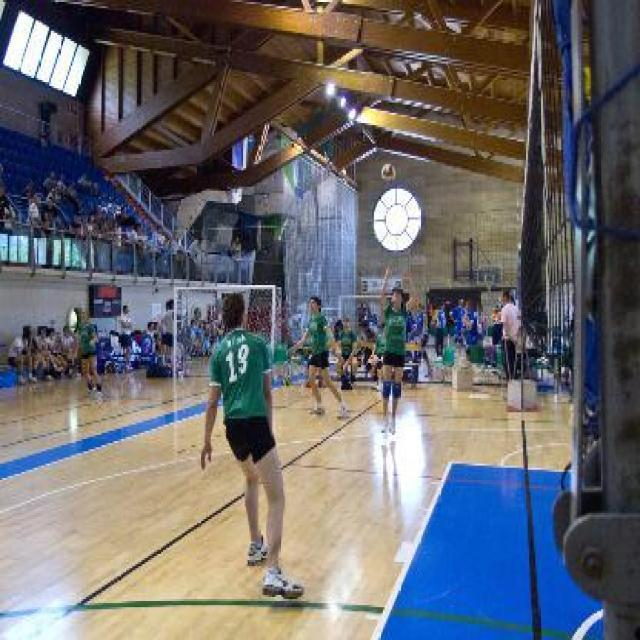volleyball: (381, 163, 396, 182)
